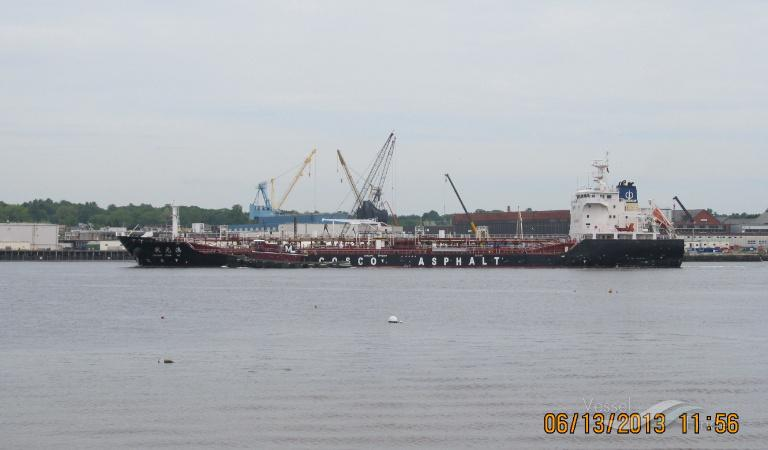OCR: (308, 251, 508, 269)
